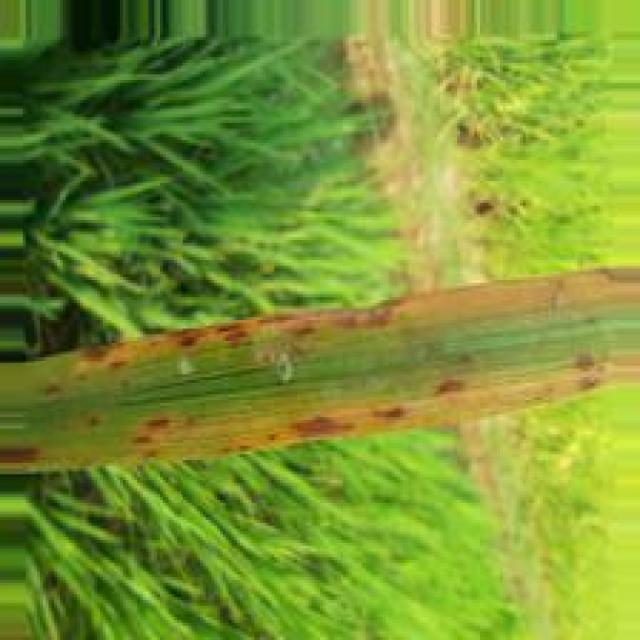Narrow_Brown_Leaf_Spot: (30, 261, 640, 401), (113, 345, 640, 458)
